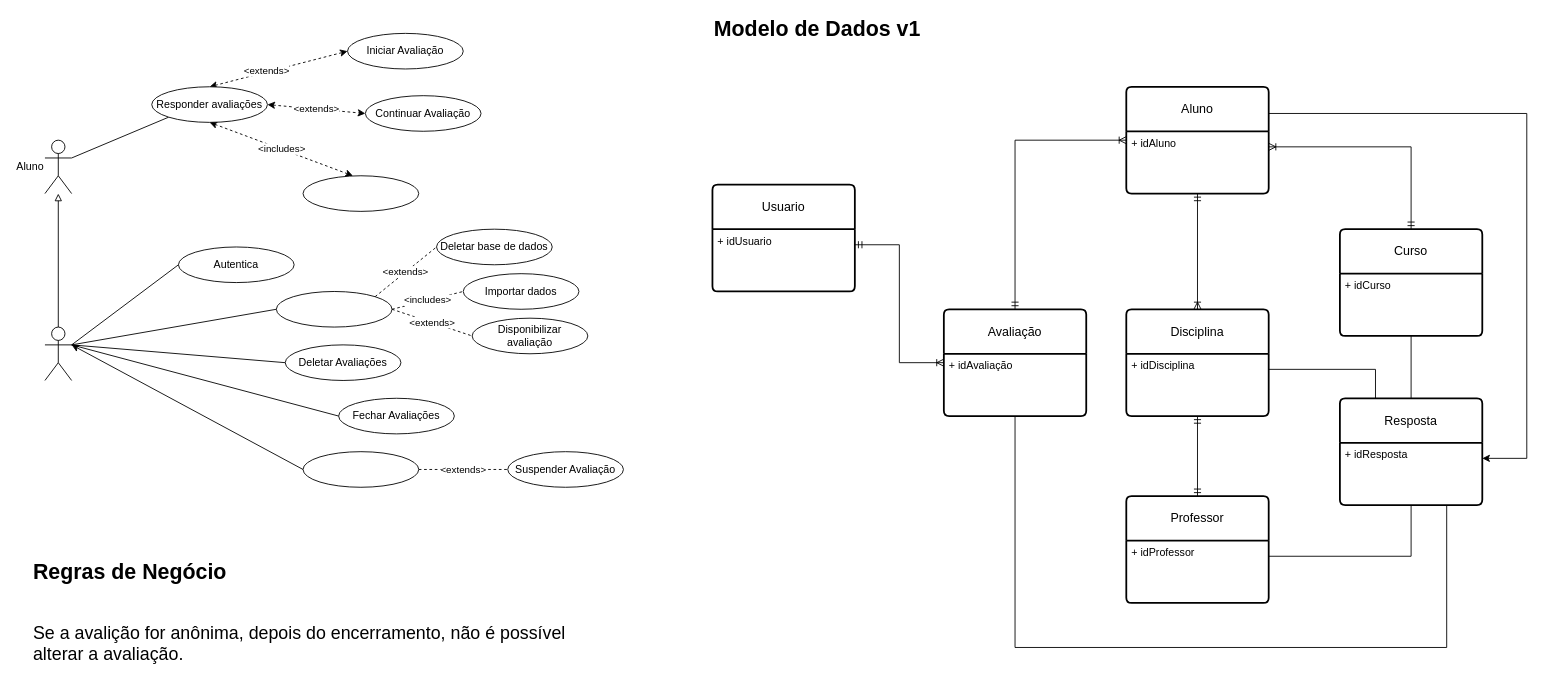
This 1549x679 diagram has some shape labels left out. Each missing label, with the centre of its shape:
"Adm" goes at point 58,353.
"Alterar Avaliações" goes at point 360,469.
"Criar Avaliações" goes at point 333,309.
"Validar questionário" goes at point 360,193.
